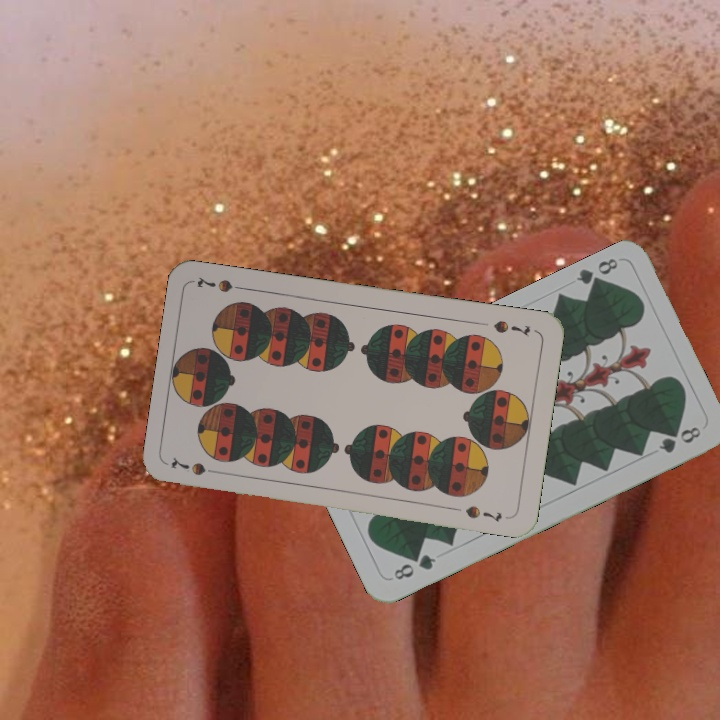G8: (572, 254, 621, 293), (389, 550, 439, 583)
S7: (167, 453, 224, 478), (489, 316, 533, 340)
